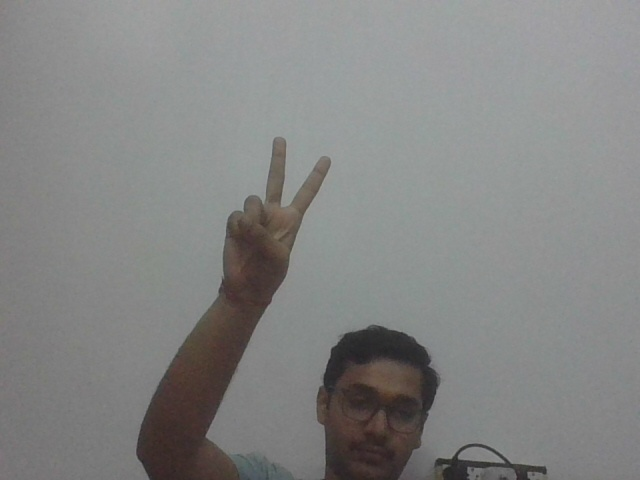V: (221, 124, 332, 301)
